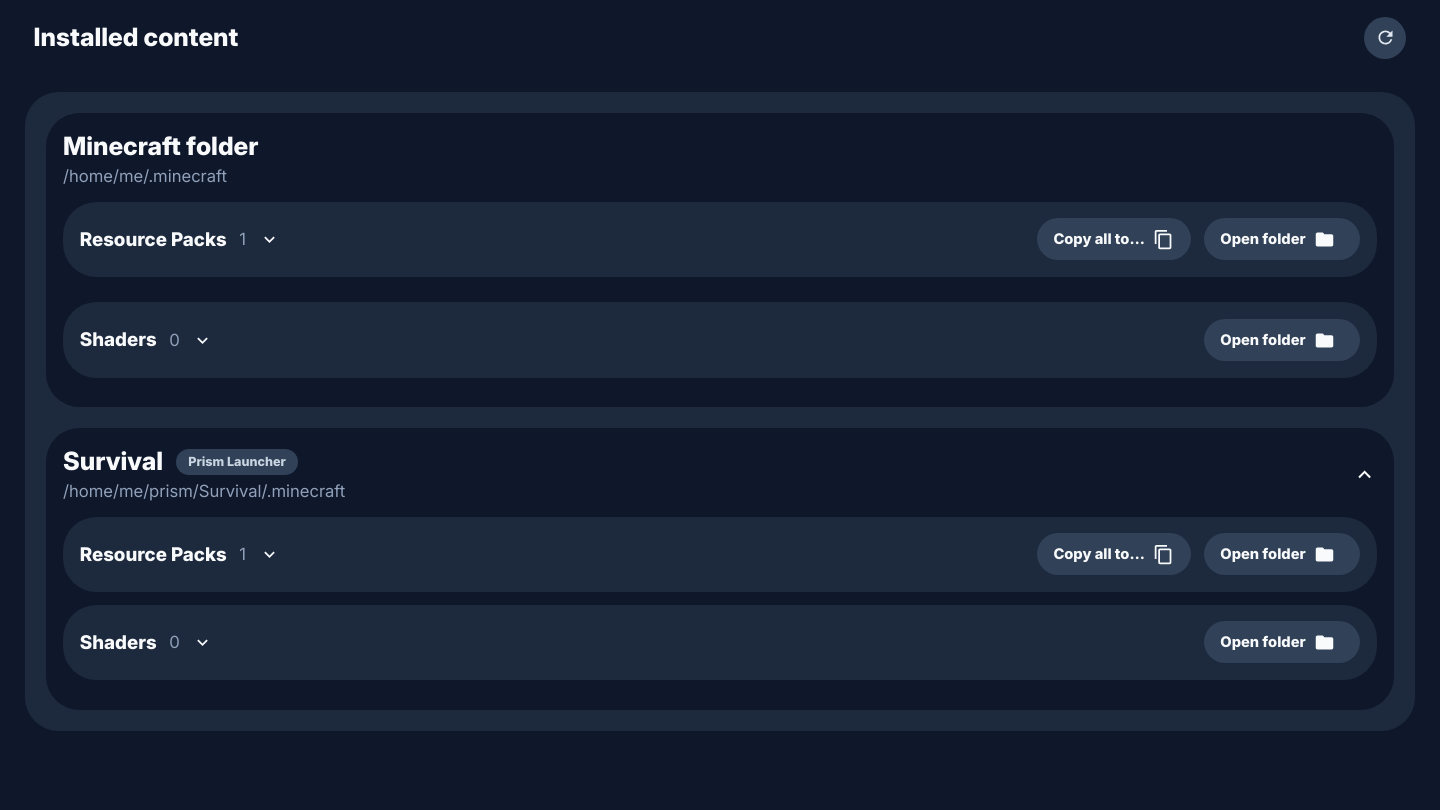
InstalledContentPage — copying between locations › offers nothing to copy when the destination is already complete
Click the button with aria-label "Copy all Resource Packs of Minecraft folder somewhere else". click: (1114,239)
box: top-left (1037, 218), bottom-right (1191, 260)
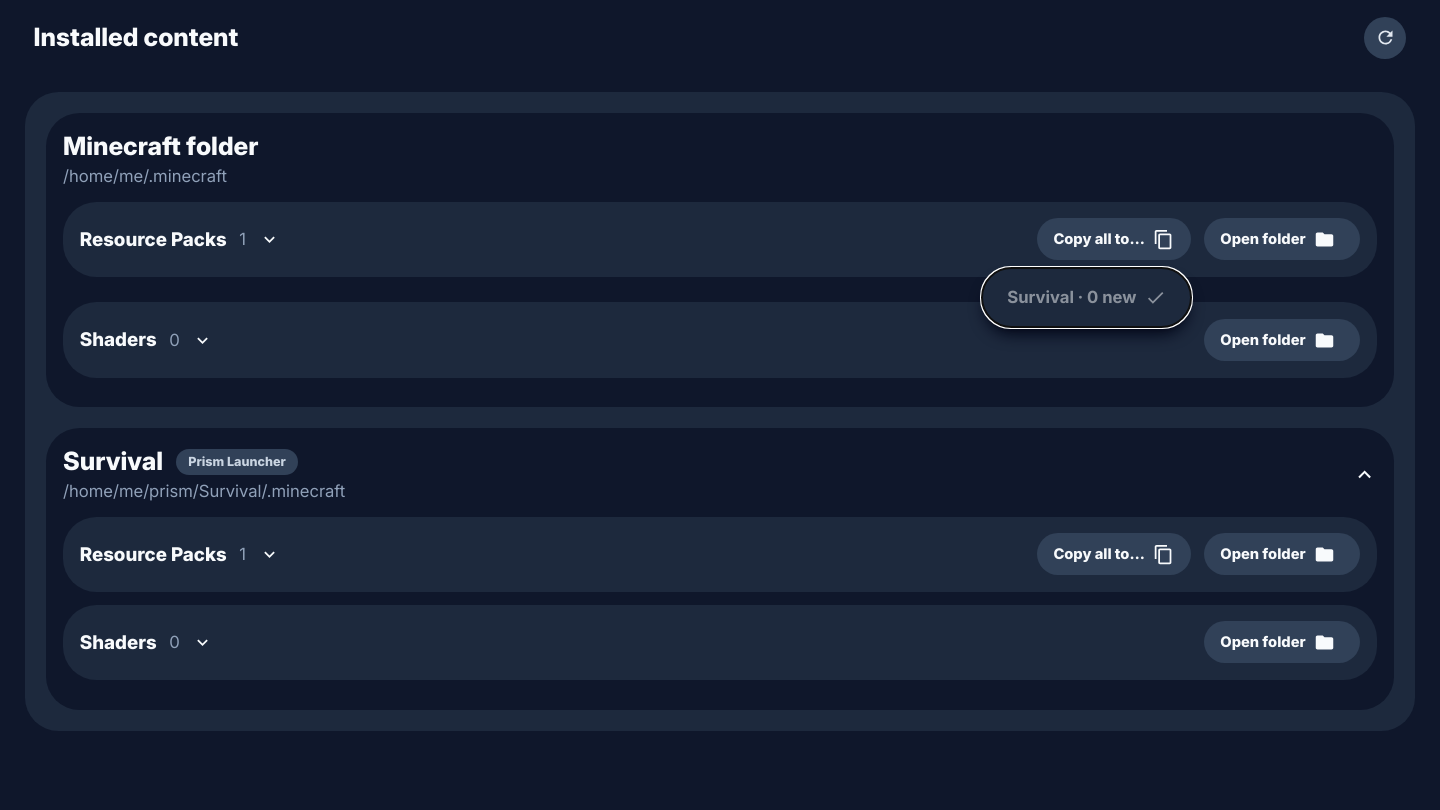
Expected: the menu item "Survival · 0 new" is disabled, top-left (990, 276), bottom-right (1183, 318)
